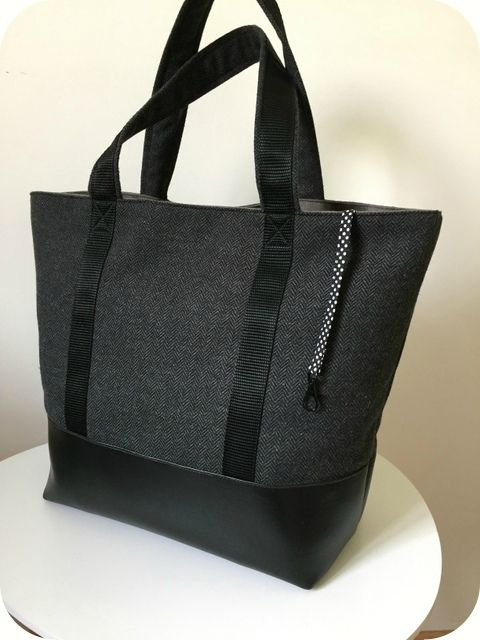cuero: (37, 416, 379, 589)
